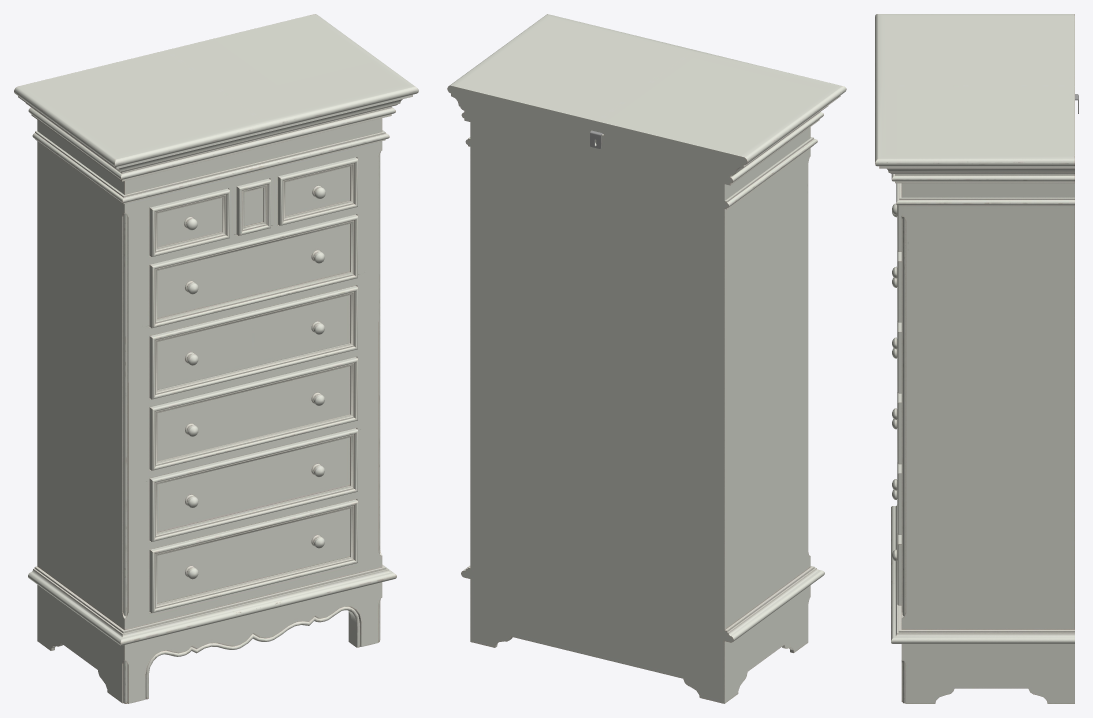
File: example132.glb
The picture shows the model from 3 angles, left to right: view 1: azimuth 30°, elevation 25°; view 2: azimuth 150°, elevation 25°; view 3: azimuth 270°, elevation 25°; orthographic projection.
Visible parts, largest first — view 1: Buffer Layer; view 2: Buffer Layer; view 3: Buffer Layer.
Part boxes in pixels (x1,y1,x2,y2): Buffer Layer: [14, 14, 418, 703]; Buffer Layer: [447, 14, 846, 703]; Buffer Layer: [875, 14, 1074, 703].
Size of the model in its own units: 0.7 by 1.23 by 0.409.
Materials: 2 (1 with a texture image).
